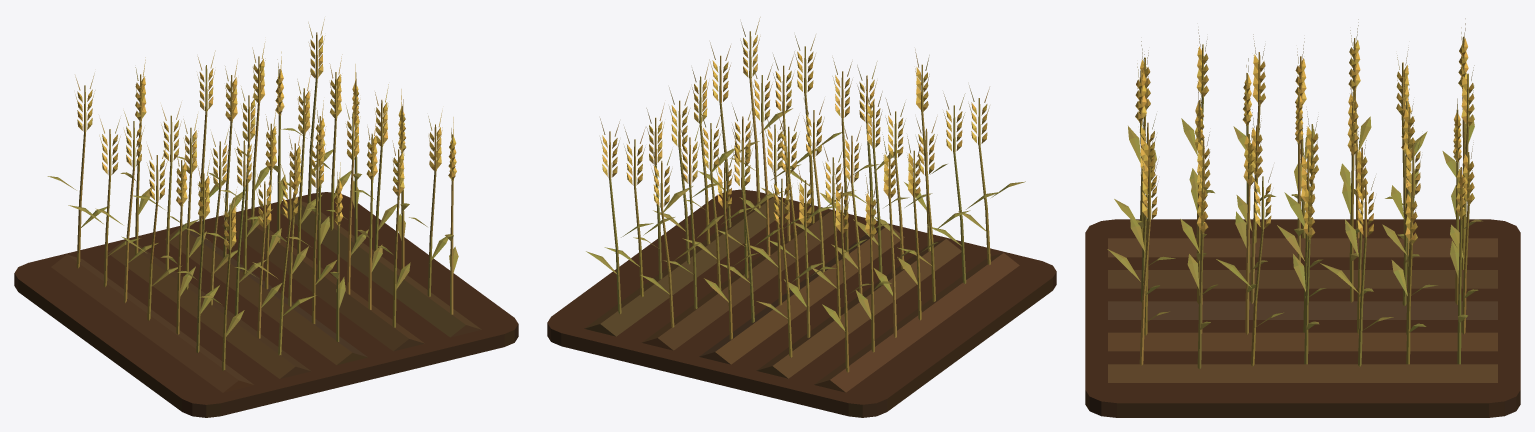
File: ble_moyen.glb
3 views of the same model, side by side, from view 1: azimuth 30°, elevation 25°; view 2: azimuth 150°, elevation 25°; view 3: azimuth 270°, elevation 25° (orthographic). The views are drawn at different scales.
Visible parts, largest first — view 1: Terre_et_sillons, Tiges_et_feuilles, Epis_et_barbes; view 2: Terre_et_sillons, Tiges_et_feuilles, Epis_et_barbes; view 3: Terre_et_sillons, Tiges_et_feuilles, Epis_et_barbes.
Boxes of the visible parts, x1,y1,x2,y2 form: Terre_et_sillons: (14,192,518,417); Tiges_et_feuilles: (47,79,458,370); Epis_et_barbes: (75,19,456,250); Terre_et_sillons: (547,189,1056,417); Tiges_et_feuilles: (586,78,1025,372); Epis_et_barbes: (600,17,989,238); Terre_et_sillons: (1085,219,1520,417); Tiges_et_feuilles: (1107,89,1482,369); Epis_et_barbes: (1135,18,1474,244).
Size of the model in its own units: 0.48 by 0.2999 by 0.48.
